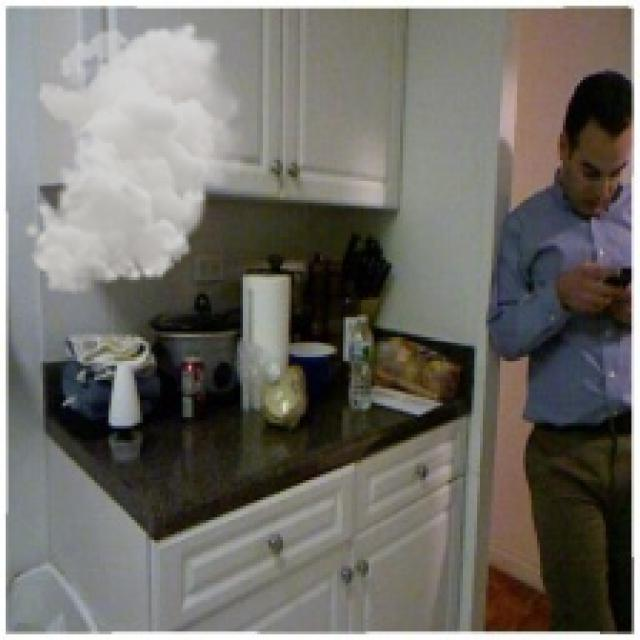smoke: (23, 20, 251, 294)
